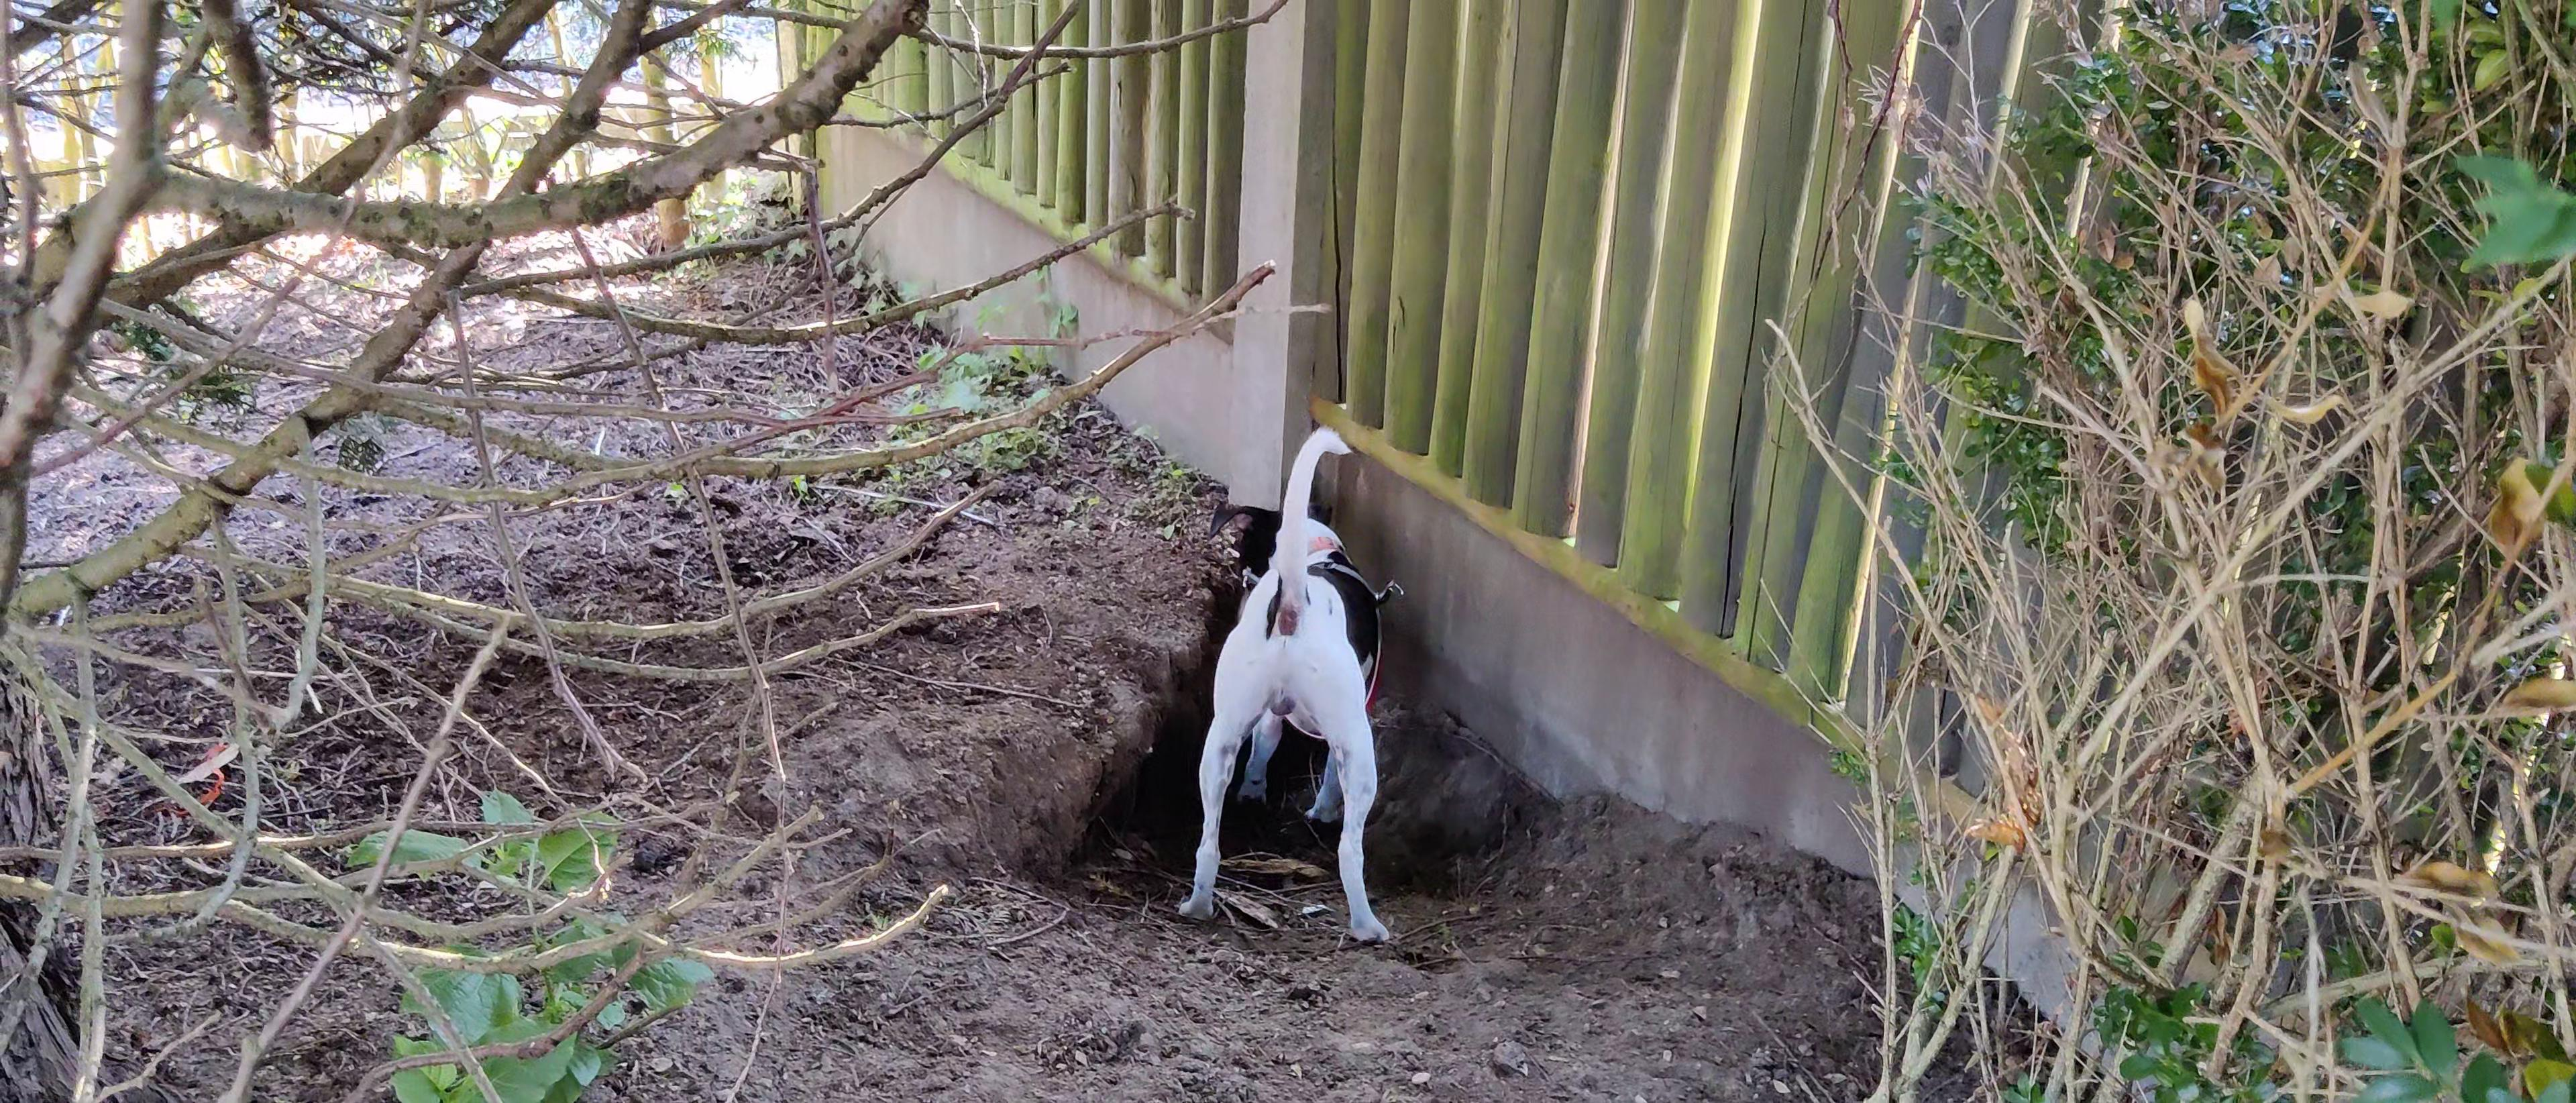Dog: (1153, 416, 1431, 950)
